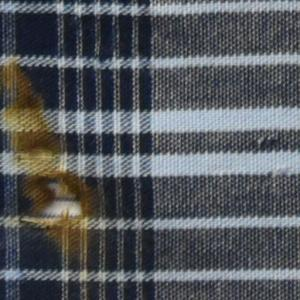Damage: (15, 144, 88, 242), (256, 130, 285, 154)
Oil Stain: (1, 52, 108, 274)
